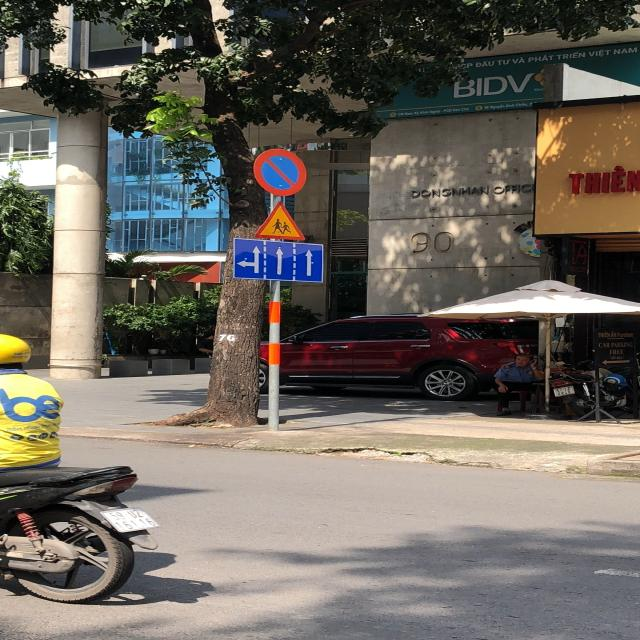Bien bao cam do xe: (246, 145, 318, 197)
Bien bao tre em: (247, 200, 322, 244)
